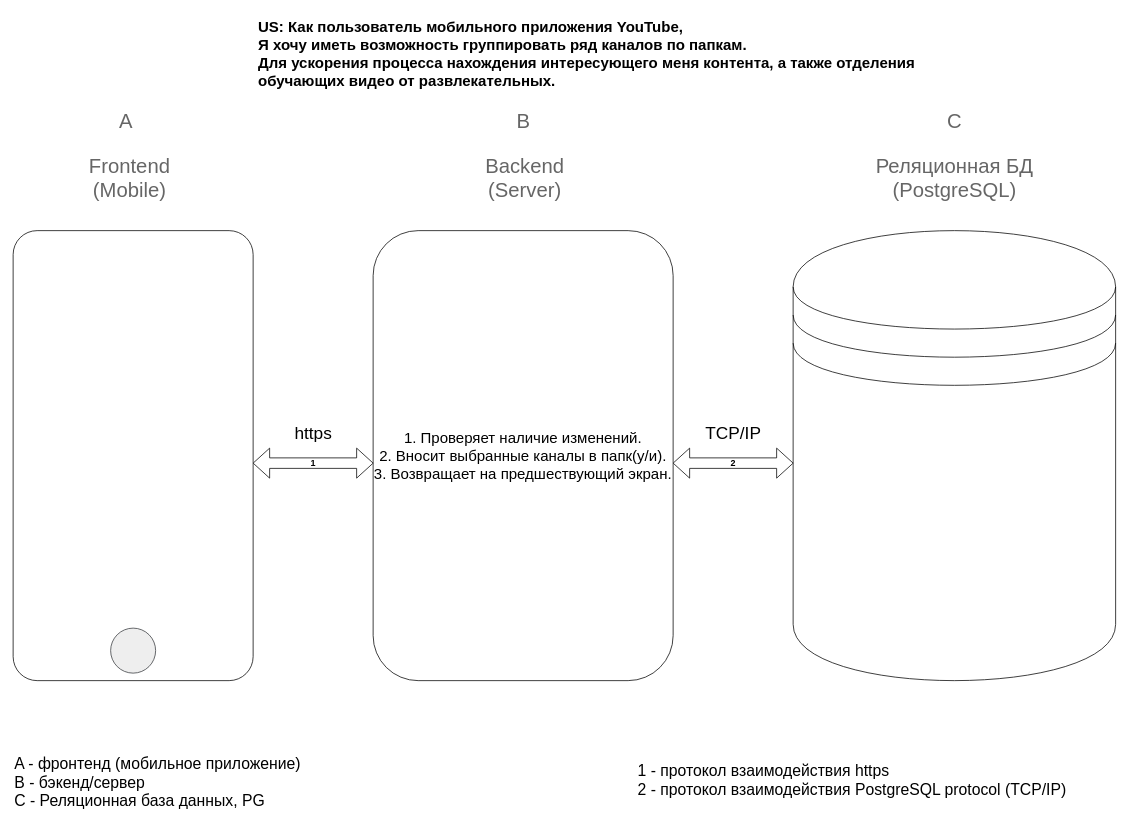
The diagram is 1129 pixels wide and 828 high, and some of its shapes have lost their labels. Each missing label, with the box of its shape:
PG: (792, 230, 1116, 681)
Отображает список папок с каналами.: (12, 230, 253, 681)
